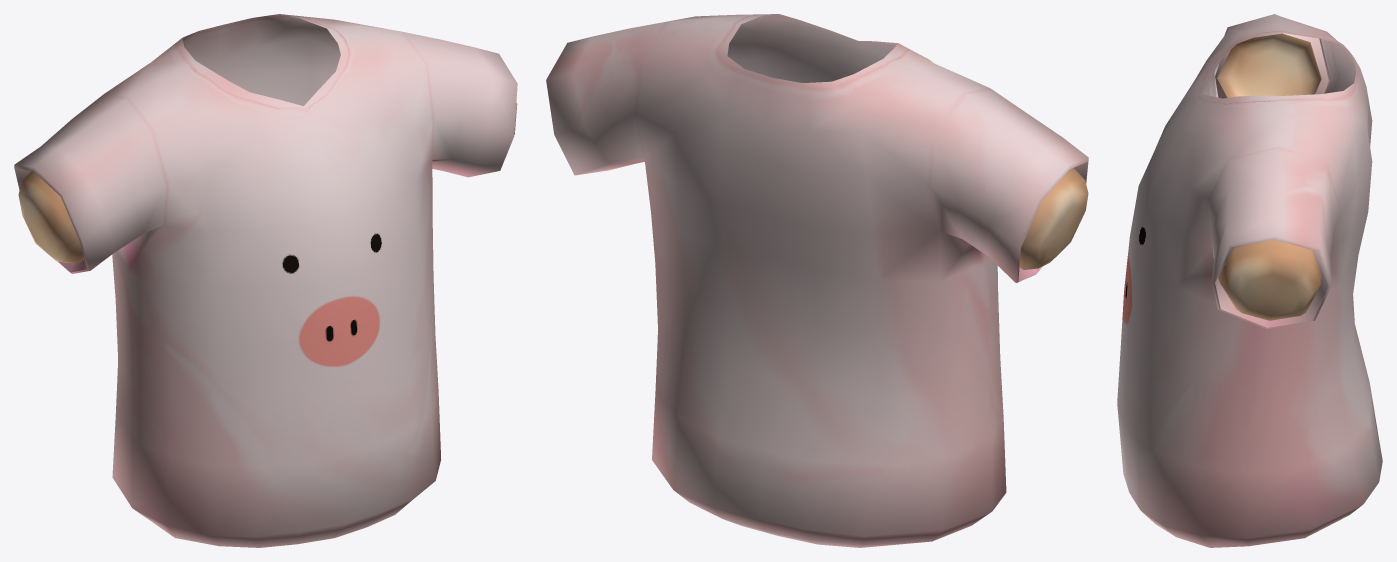
File: boy_body1.FBX
3 views of the same model, side by side, from view 1: azimuth 30°, elevation 25°; view 2: azimuth 150°, elevation 25°; view 3: azimuth 270°, elevation 25° (orthographic). The views are drawn at different scales.
Visible parts, largest first — view 1: boy_body16; view 2: boy_body16; view 3: boy_body16.
Boxes of the visible parts, x1=… form: boy_body16: x1=14, y1=14, x2=517, y2=547; boy_body16: x1=546, y1=14, x2=1088, y2=547; boy_body16: x1=1117, y1=14, x2=1382, y2=547.
Bounding box in the file's own units: 45.94 × 41.53 × 23.03.
